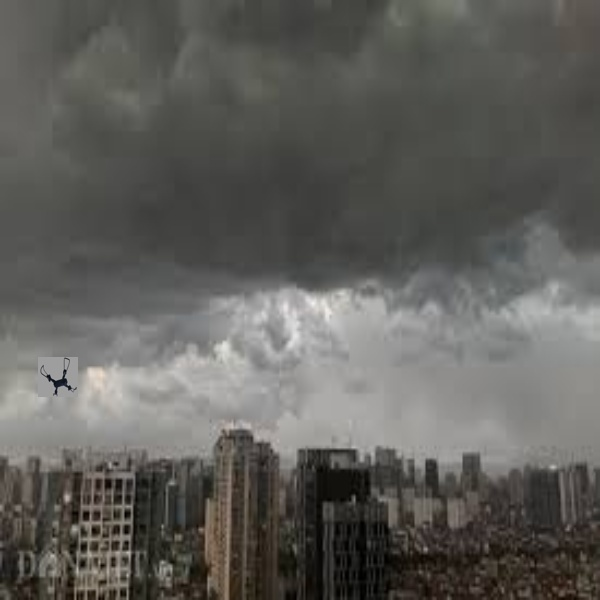drone: (31, 351, 87, 404)
